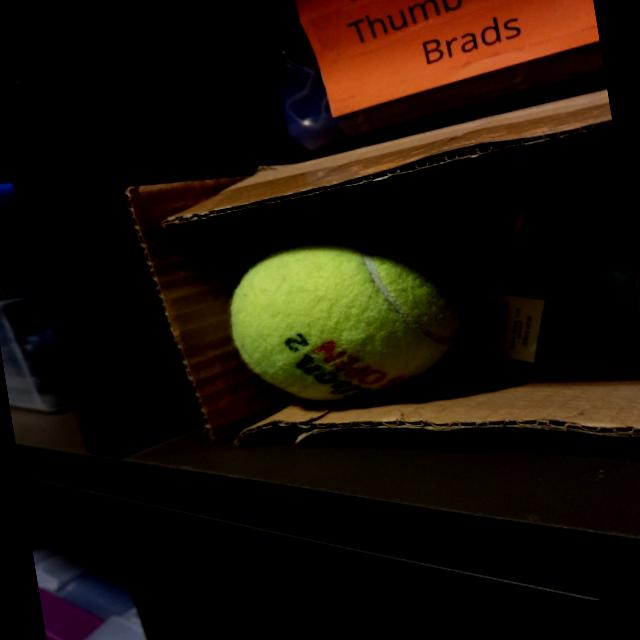tennis-ball: (217, 204, 485, 422)
